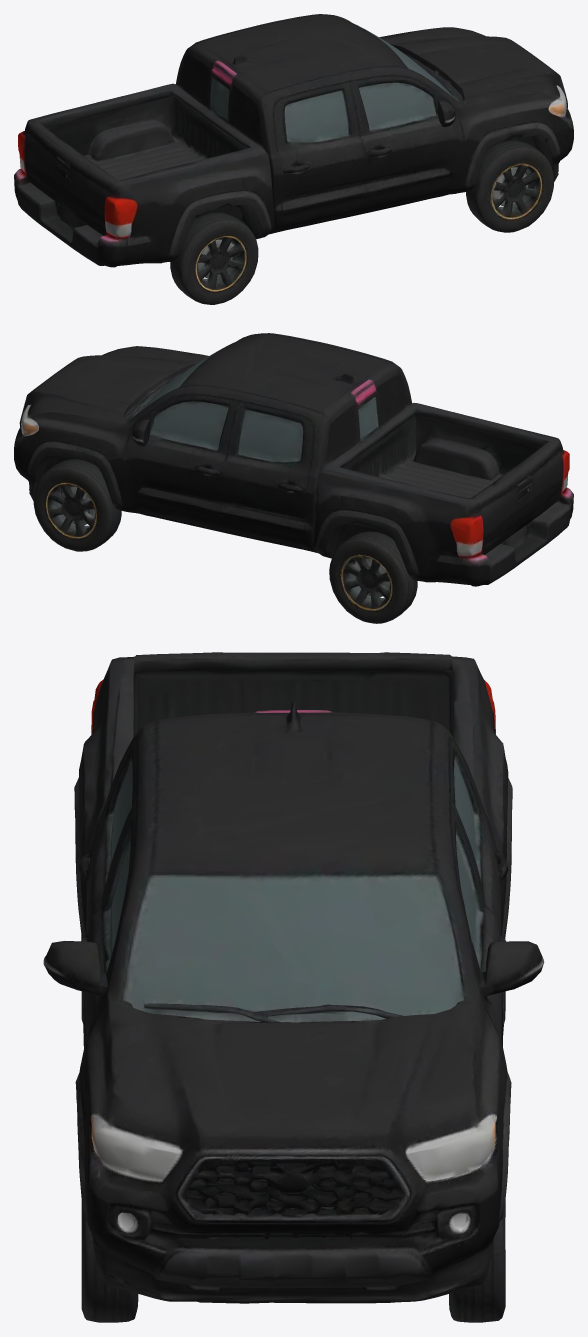
Rendered from truck-small.glb.
3 views of the same model, one above another, from view 1: azimuth 30°, elevation 25°; view 2: azimuth 150°, elevation 25°; view 3: azimuth 270°, elevation 25° (orthographic). The views are drawn at different scales.
Parts seen in each view (by area): view 1: tripo_node_52d22c1f-8d07-4876-b939-0360c885511f; view 2: tripo_node_52d22c1f-8d07-4876-b939-0360c885511f; view 3: tripo_node_52d22c1f-8d07-4876-b939-0360c885511f.
Boxes of the visible parts, bbox=[...] form: tripo_node_52d22c1f-8d07-4876-b939-0360c885511f: bbox=[14, 14, 573, 304]; tripo_node_52d22c1f-8d07-4876-b939-0360c885511f: bbox=[14, 333, 573, 623]; tripo_node_52d22c1f-8d07-4876-b939-0360c885511f: bbox=[43, 652, 544, 1322].
Bounding box in the file's own units: 1 × 0.3793 × 0.4419.
Materials: 1 (1 with a texture image).
